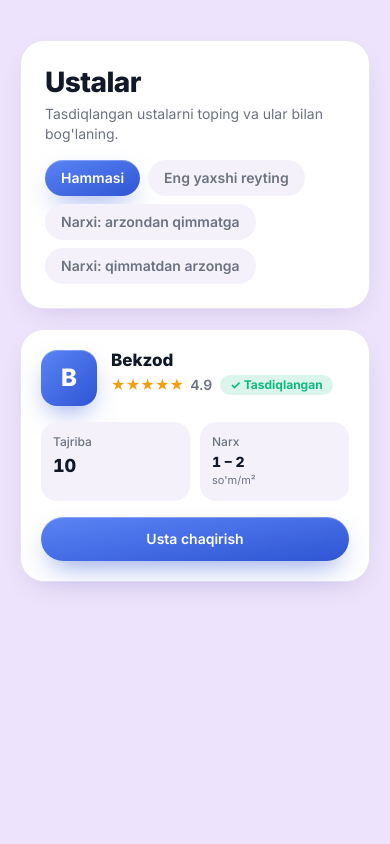
it: forms refuse a phone that is not an Uzbek number › usta request
The image size is (390, 844).
Click the button "Usta chaqirish".
click(195, 538)  # box [41, 516, 349, 560]
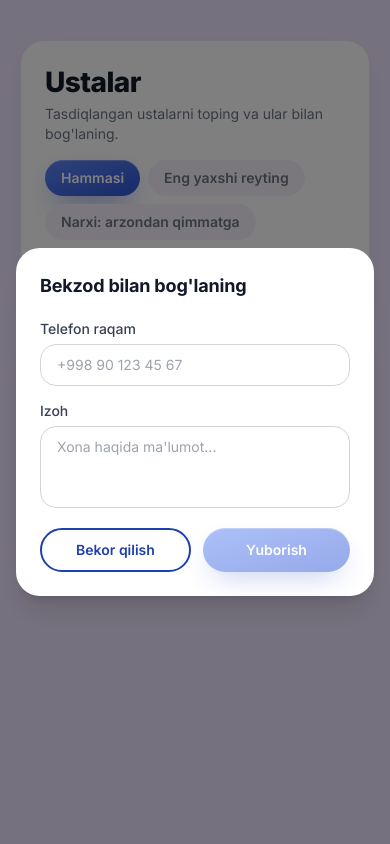
Type "123" into the field with placeholder "+998 90 123 45 67".
click(195, 365); type("123")  # box [40, 344, 350, 386]
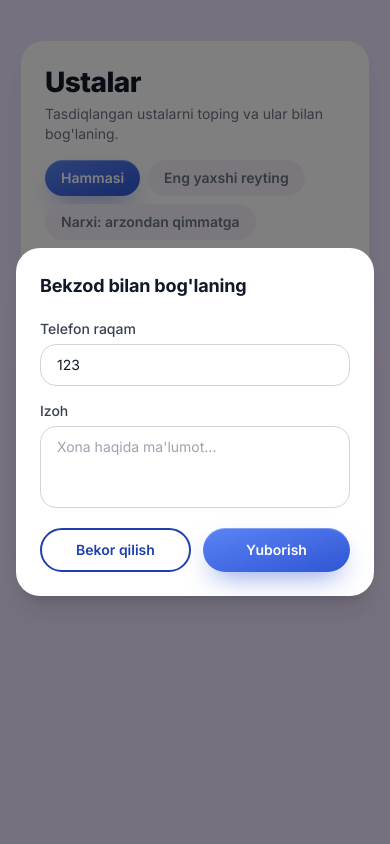
Click the button "Yuborish".
click(276, 550)  # box [203, 528, 350, 572]
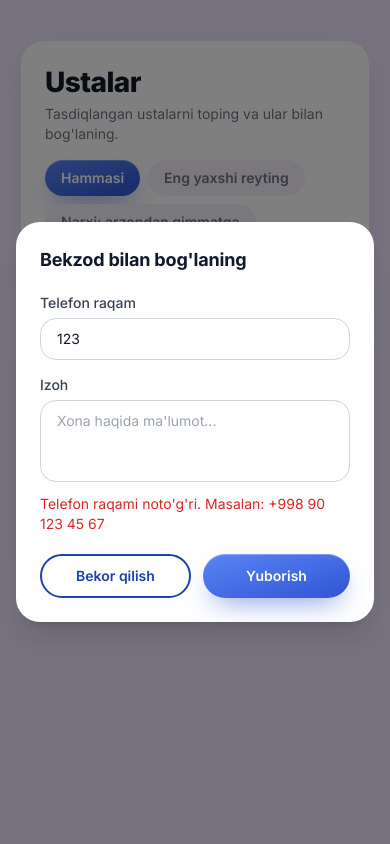
Check: the text "Telefon raqami noto'g'ri. Masalan: +998 90 123 45 67" is shown, box [40, 494, 350, 534]
